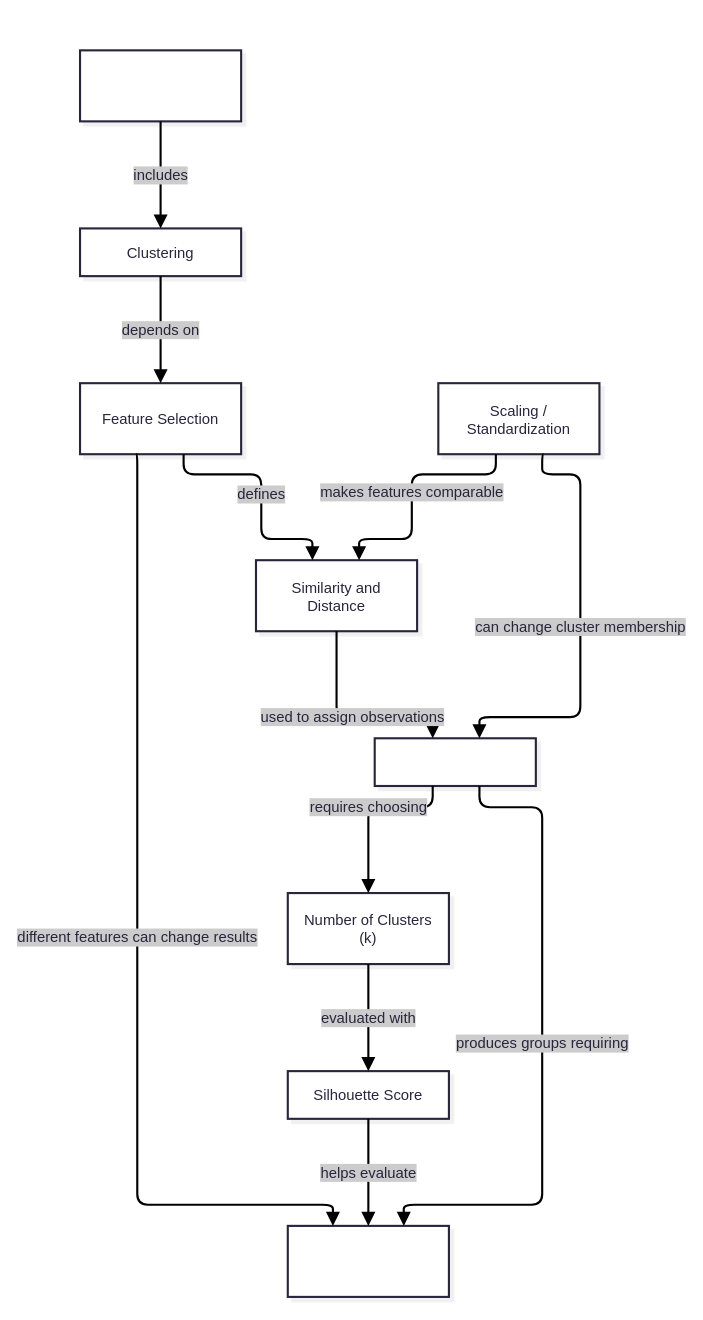
This 703x1320 diagram has some shape labels left out. Each missing label, with the centre of its shape:
"Interpretation and Limitations" goes at (x=370, y=1263).
"K-Means" goes at (x=457, y=764).
"Unsupervised Learning" goes at (x=162, y=87).
